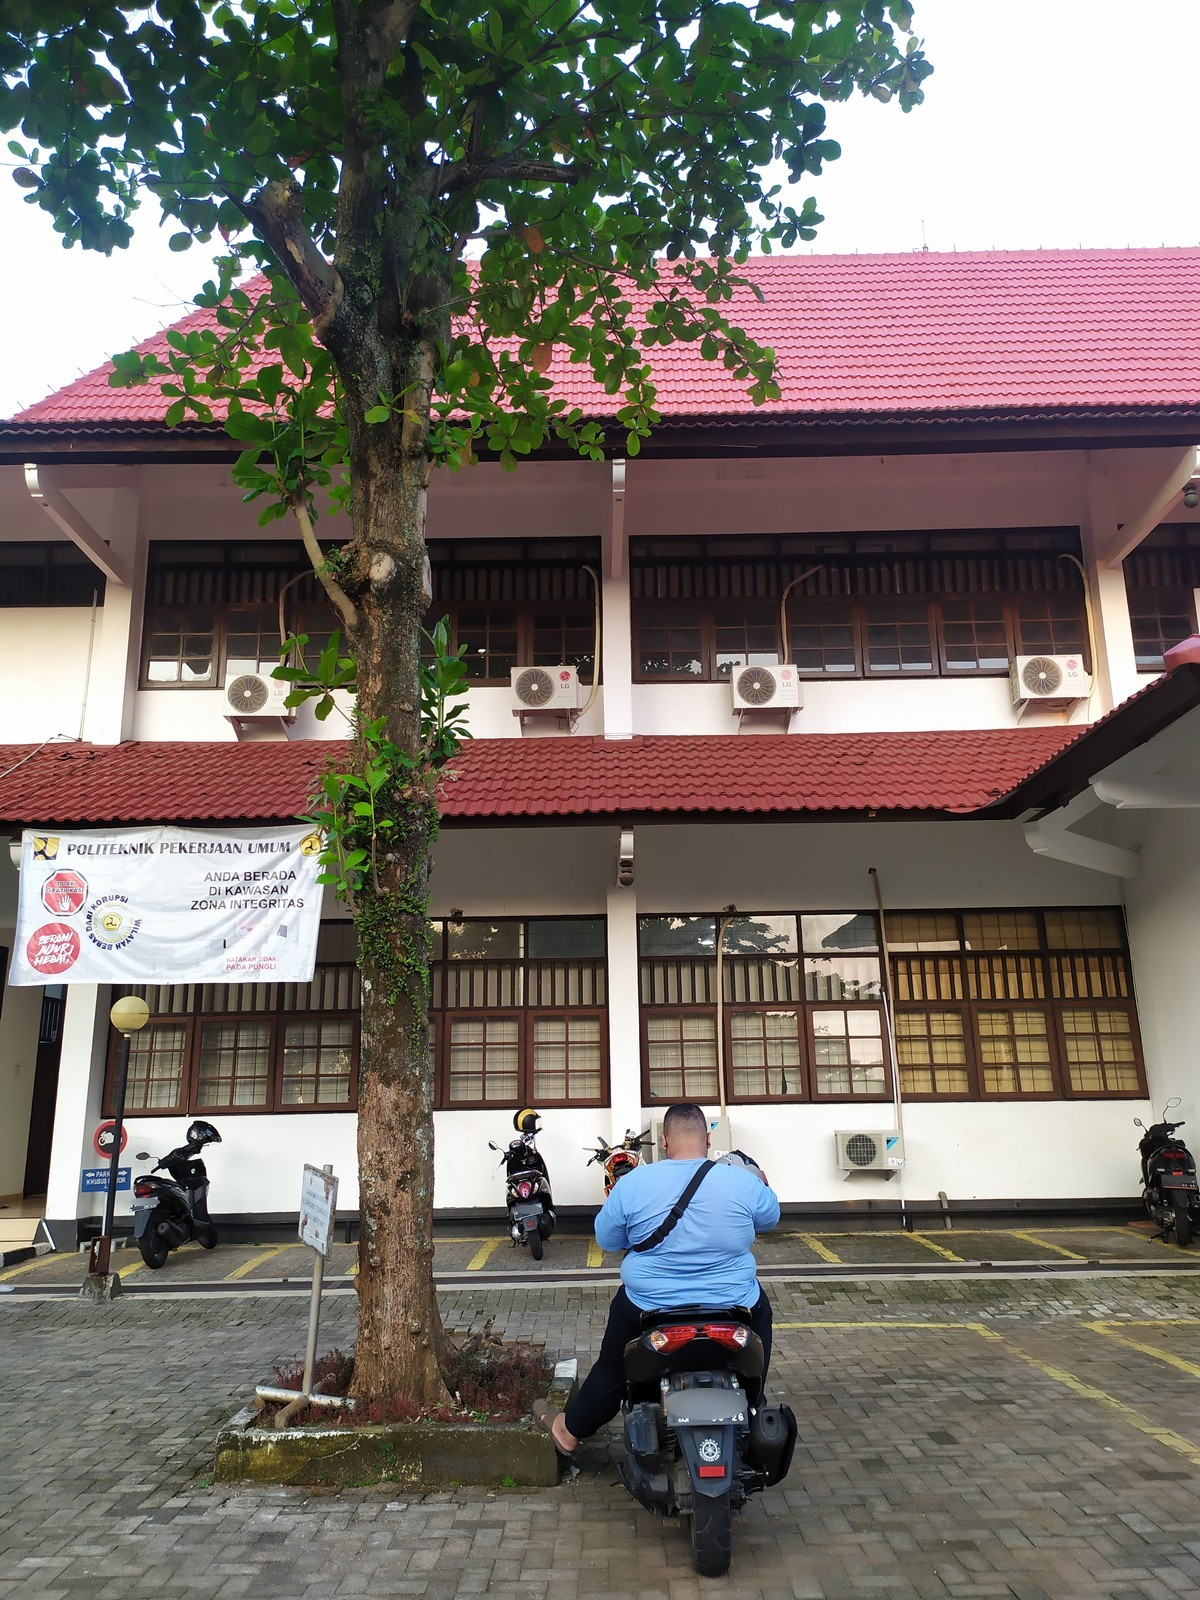concrete column: (79, 479, 158, 750), (44, 981, 110, 1236), (1076, 467, 1141, 711)
